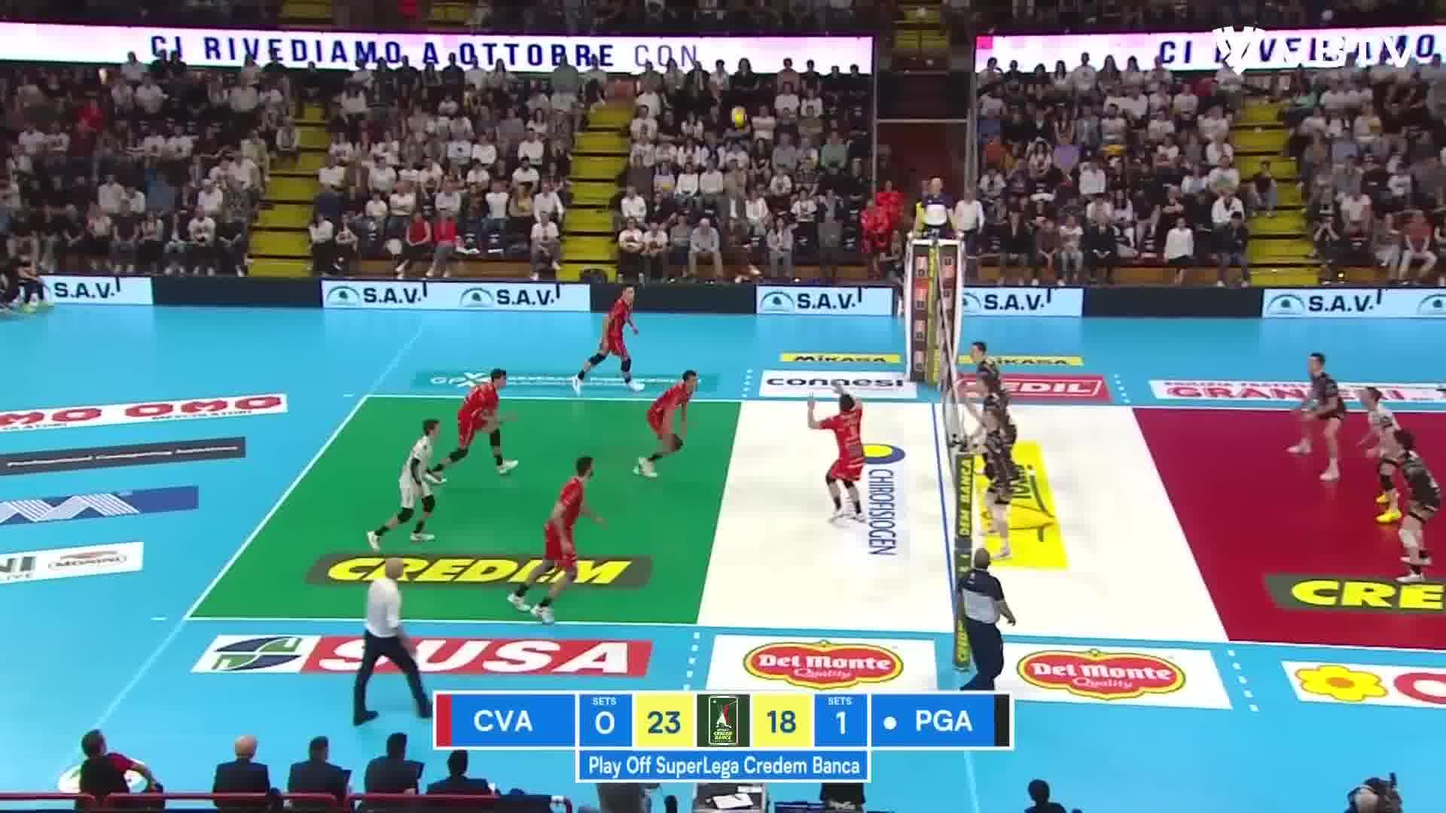balls: (728, 105, 751, 130)
